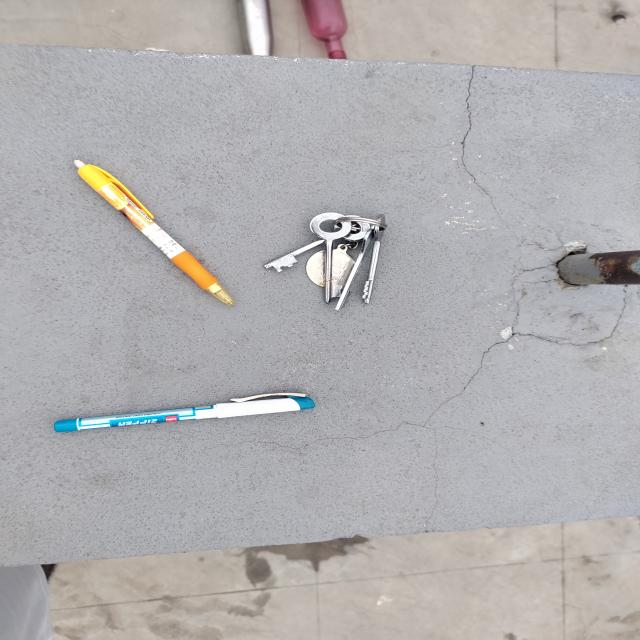metal: (267, 209, 384, 309), (238, 0, 277, 59)
plastic: (74, 155, 223, 304), (53, 389, 319, 434), (302, 0, 352, 61)
